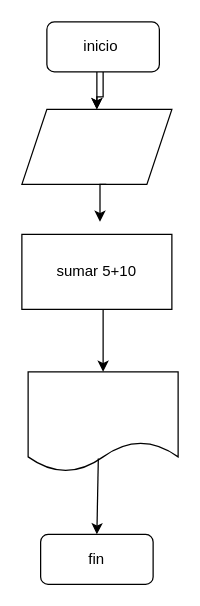
This 200x606 diagram has some shape labels left out. The shapes that lost their labels are listed below. From the top down, each one's box as (x1, y1, x2, y2) in pixels, then its label:
(21, 108, 172, 184): ingrese num 5 ingrese num 10
(27, 371, 178, 472): el resultado es:15
